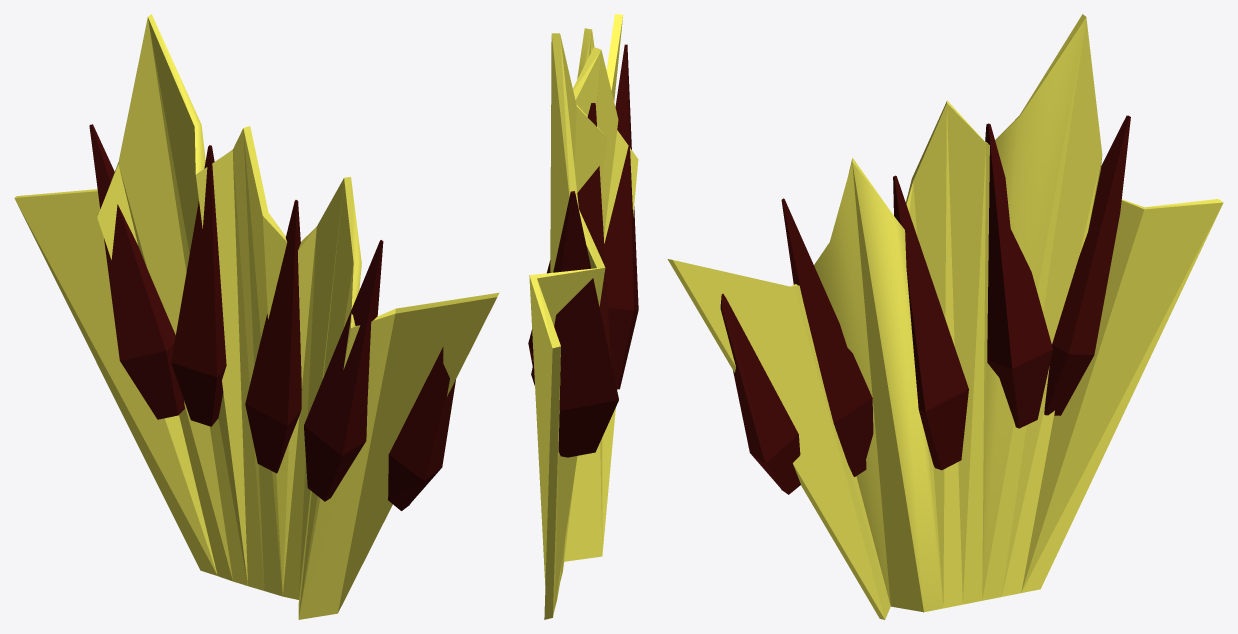
The picture shows the model from 3 angles, left to right: view 1: azimuth 30°, elevation 25°; view 2: azimuth 150°, elevation 25°; view 3: azimuth 270°, elevation 25°; orthographic projection. The views are drawn at different scales.
Parts seen in each view (by area): view 1: hat.001, hat_001; view 2: hat.001, hat_001; view 3: hat.001, hat_001.
Part boxes in pixels (box(x1,y1,x2,y2)): hat.001: box(14, 14, 499, 619); hat_001: box(89, 124, 455, 510); hat.001: box(529, 14, 638, 619); hat_001: box(528, 44, 638, 457); hat.001: box(667, 14, 1223, 619); hat_001: box(720, 115, 1130, 494).
Bounding box in the file's own units: 29.91 × 64.36 × 71.61.
